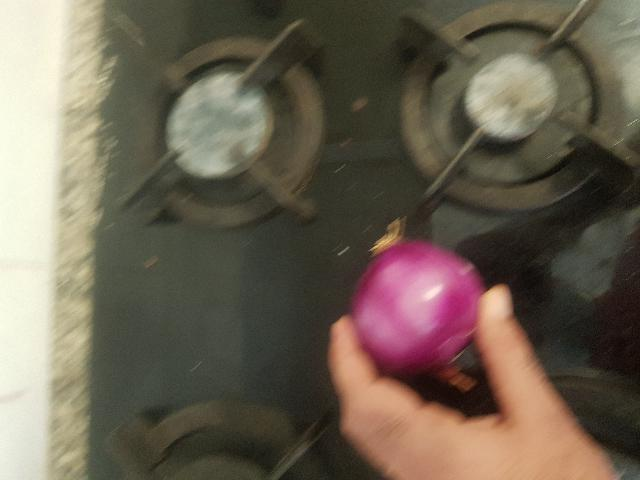onion: (349, 234, 492, 384)
